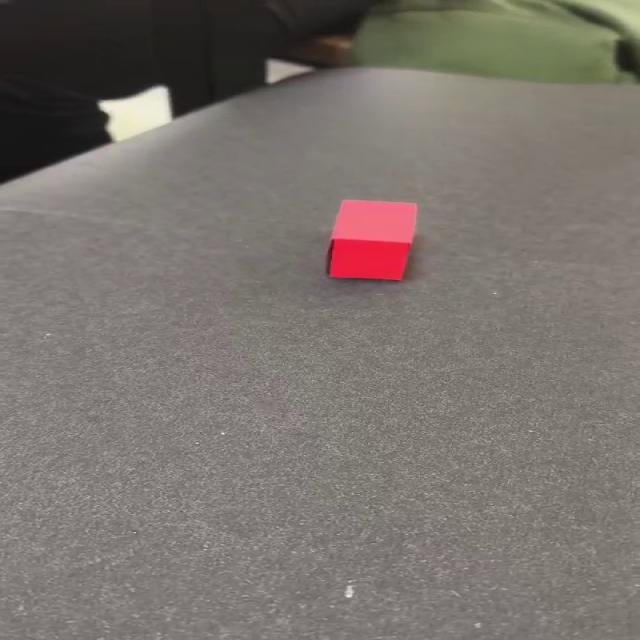red block: (326, 198, 418, 280)
